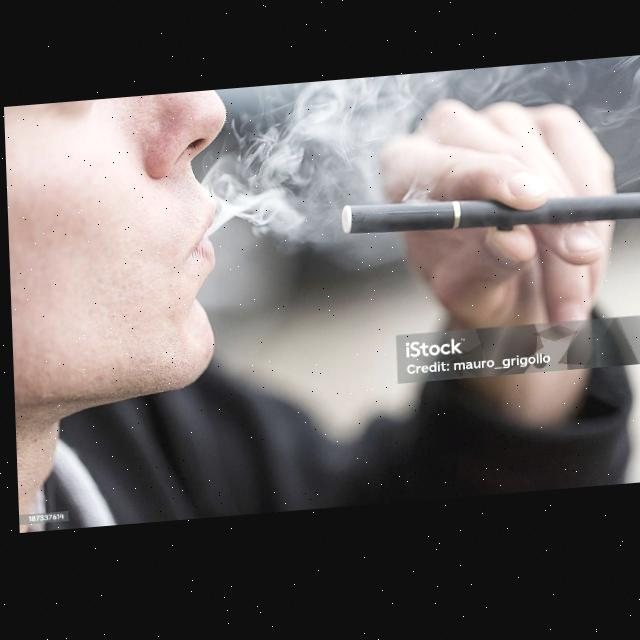vape: (339, 204, 640, 241)
